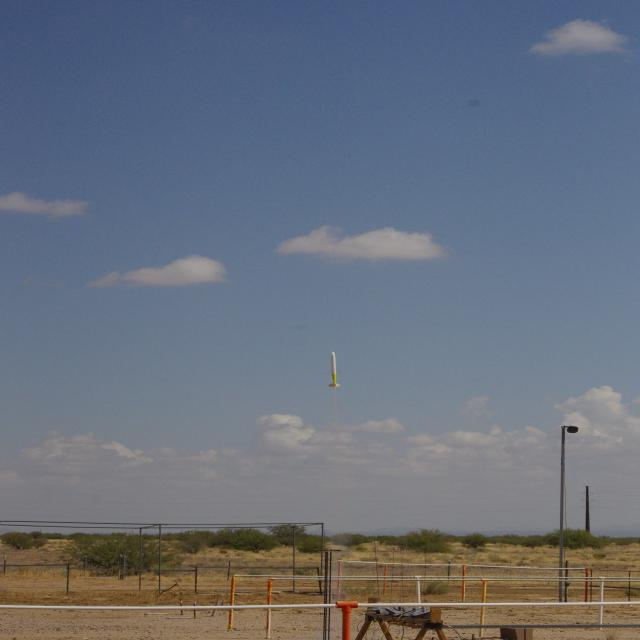Rocket: (328, 352, 341, 389)
